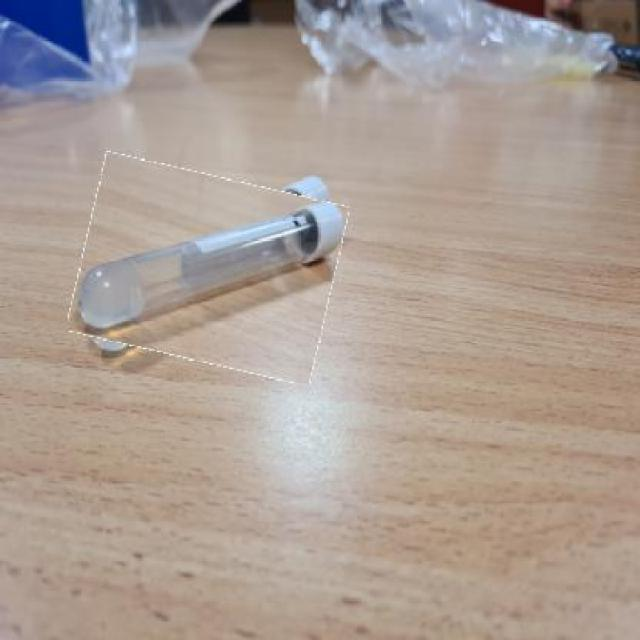Experimental-tube: (74, 164, 340, 373)
